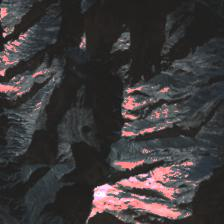landslides: (44, 25, 64, 33)
